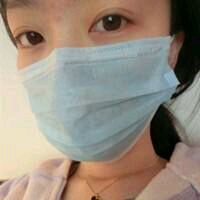yes_mask: (0, 1, 197, 165)
